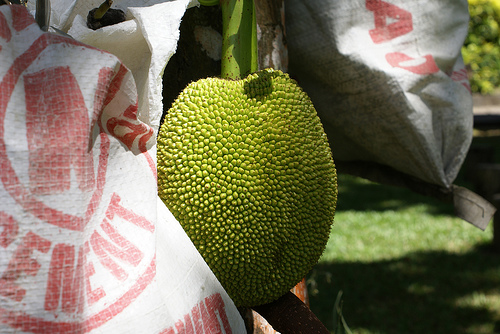jackfruit: (156, 67, 338, 309)
